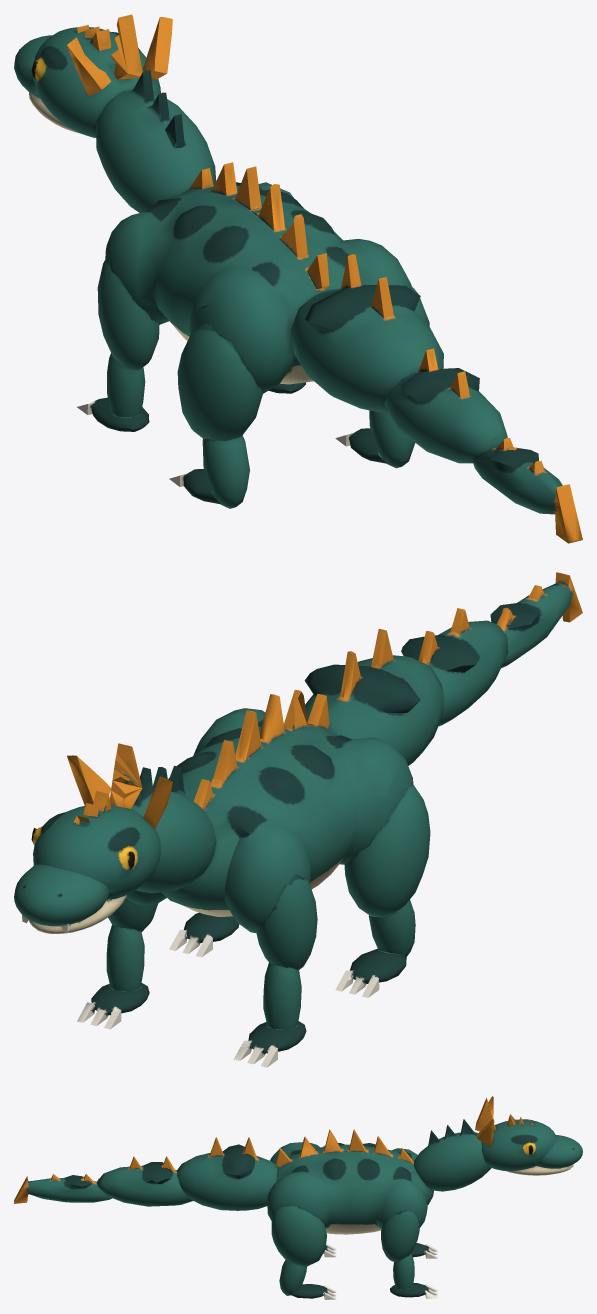
The model's file is Thornjaw.fbx.
3 views of the same model, one above another, from view 1: azimuth 30°, elevation 25°; view 2: azimuth 150°, elevation 25°; view 3: azimuth 270°, elevation 25° (orthographic). The views are drawn at different scales.
Parts seen in each view (by area): view 1: Body, TailA, Neck, TailB, UpperLegBL, Head, TailC, Crest, UpperLegFL, LowerLegBL, LowerLegFL, LowerLegBR; view 2: Body, Head, TailA, UpperLegBL, TailB, Neck, TailC, LowerLegFL, LowerLegFR, Crest, UpperLegFL, LowerLegBL (+3 smaller); view 3: Body, TailA, Head, Neck, TailB, UpperLegBR, TailC, UpperLegFR, LowerLegBR, LowerLegFR, Crest, Jaw (+1 smaller).
Part boxes in pixels (<box>): Body: <box>105,162,411,393</box>; TailA: <box>291,254,443,412</box>; Neck: <box>96,70,216,212</box>; TailB: <box>383,348,507,463</box>; UpperLegBL: <box>177,324,263,440</box>; Head: <box>14,27,160,137</box>; TailC: <box>473,437,582,543</box>; Crest: <box>67,14,172,96</box>; UpperLegFL: <box>97,259,159,370</box>; LowerLegBL: <box>169,435,249,508</box>; LowerLegFL: <box>77,353,149,431</box>; LowerLegBR: <box>335,410,414,468</box>; Body: <box>126,690,413,933</box>; Head: <box>14,805,160,932</box>; TailA: <box>304,629,443,765</box>; UpperLegBL: <box>344,783,430,917</box>; TailB: <box>401,608,508,726</box>; Neck: <box>131,765,216,893</box>; TailC: <box>490,572,582,668</box>; LowerLegFL: <box>234,962,306,1067</box>; LowerLegFR: <box>77,925,149,1029</box>; Crest: <box>67,743,172,829</box>; UpperLegFL: <box>256,875,317,969</box>; LowerLegBL: <box>335,900,415,997</box>; Body: <box>267,1129,433,1234</box>; TailA: <box>177,1137,277,1210</box>; Head: <box>481,1119,582,1171</box>; Neck: <box>414,1119,491,1191</box>; TailB: <box>96,1156,192,1206</box>; UpperLegBR: <box>271,1205,326,1266</box>; TailC: <box>14,1174,112,1203</box>; UpperLegFR: <box>381,1210,419,1261</box>; LowerLegBR: <box>279,1260,336,1299</box>; LowerLegFR: <box>390,1253,437,1298</box>; Crest: <box>475,1096,533,1146</box>; Jaw: <box>506,1164,573,1175</box>.
Bounding box in the file's own units: 784 × 1071 × 3145.
Materials: 1 (1 with a texture image).
